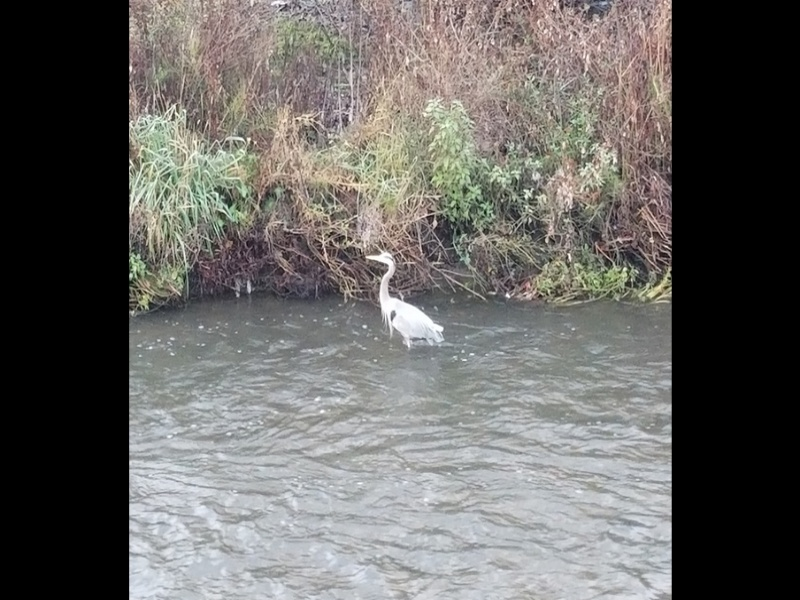heron: (362, 250, 441, 349)
